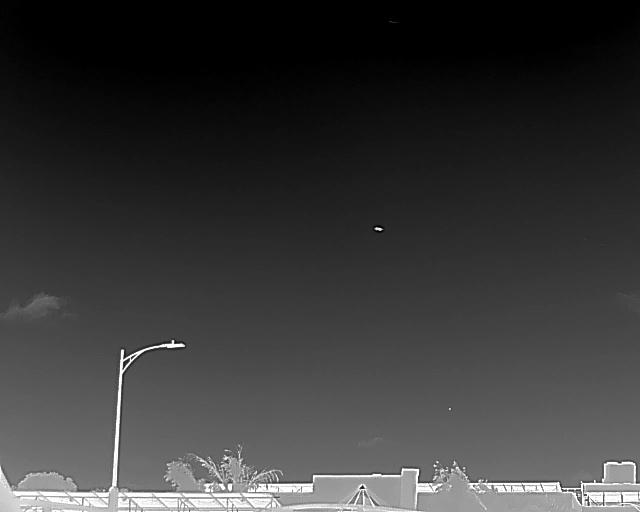fpv-drone: (373, 225, 383, 231)
